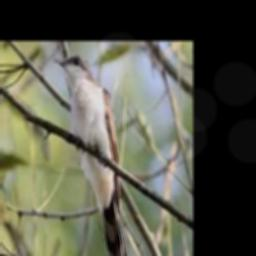Cuckoo: (53, 54, 131, 256)
